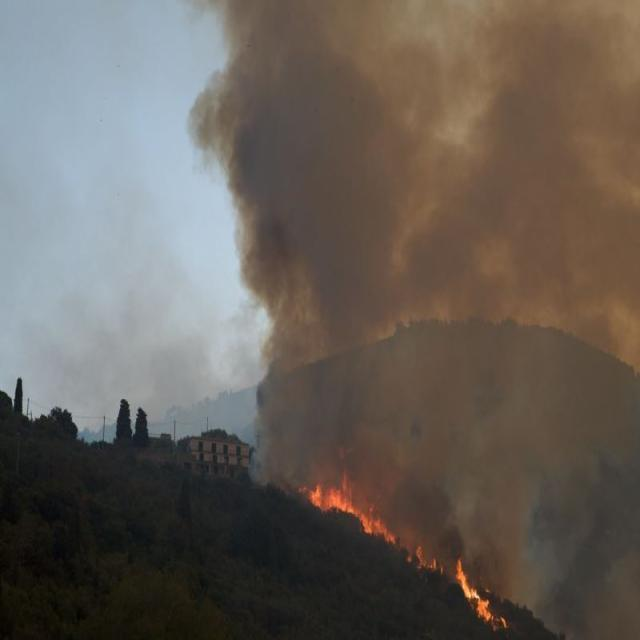Fire: (457, 564, 495, 622), (305, 484, 353, 514)
Smoke: (273, 46, 569, 418)
